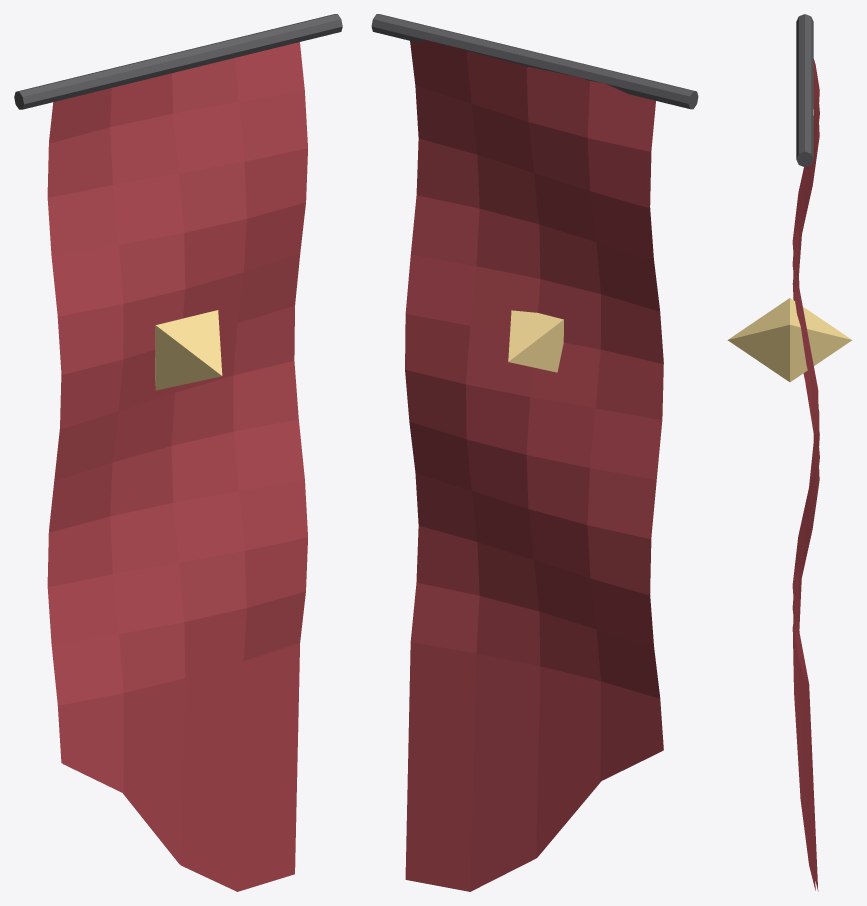
File: Banner.fbx
3 renders of one model, left to right at view 1: azimuth 30°, elevation 25°; view 2: azimuth 150°, elevation 25°; view 3: azimuth 270°, elevation 25°, orthographic. The views are drawn at different scales.
Visible parts, largest first — view 1: Banner; view 2: Banner; view 3: Banner.
Part boxes in pixels (box(x1,y1,x2,y2)): Banner: box(14, 14, 342, 891); Banner: box(371, 14, 698, 891); Banner: box(727, 14, 852, 891).
Bounding box in the file's own units: 1.3 × 3.34 × 0.5.
